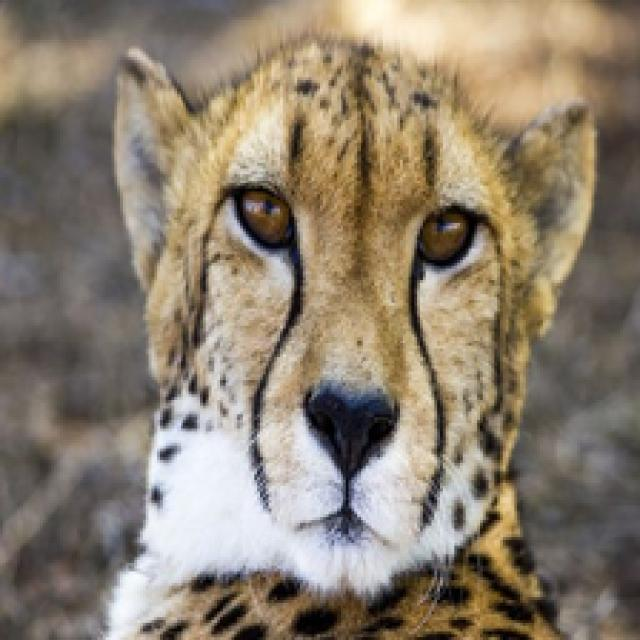cheetah: (113, 15, 625, 640)
